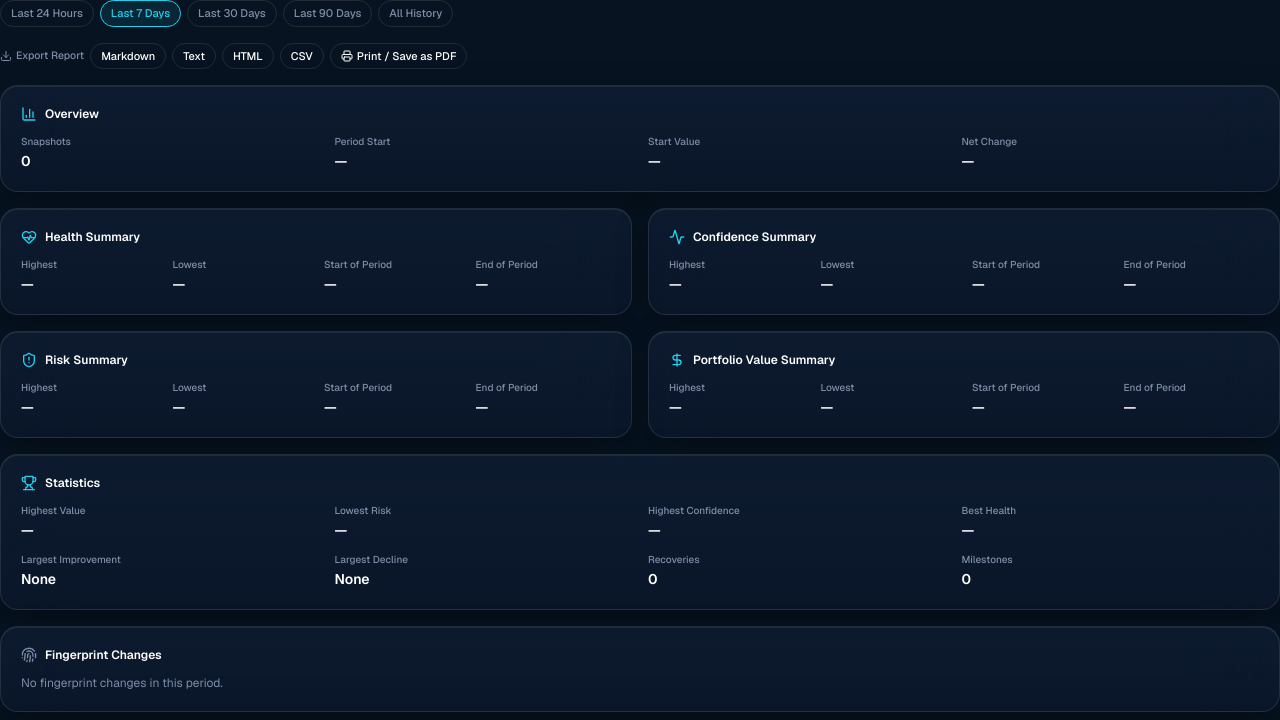
Test: WalletReportView › renders real Fingerprint Changes for the selected period
What coordinates should you click on to do the following:
click the button "All History"
I would click on:
 (416, 13)
Its box is [378,0,453,26].
(page scrolled)
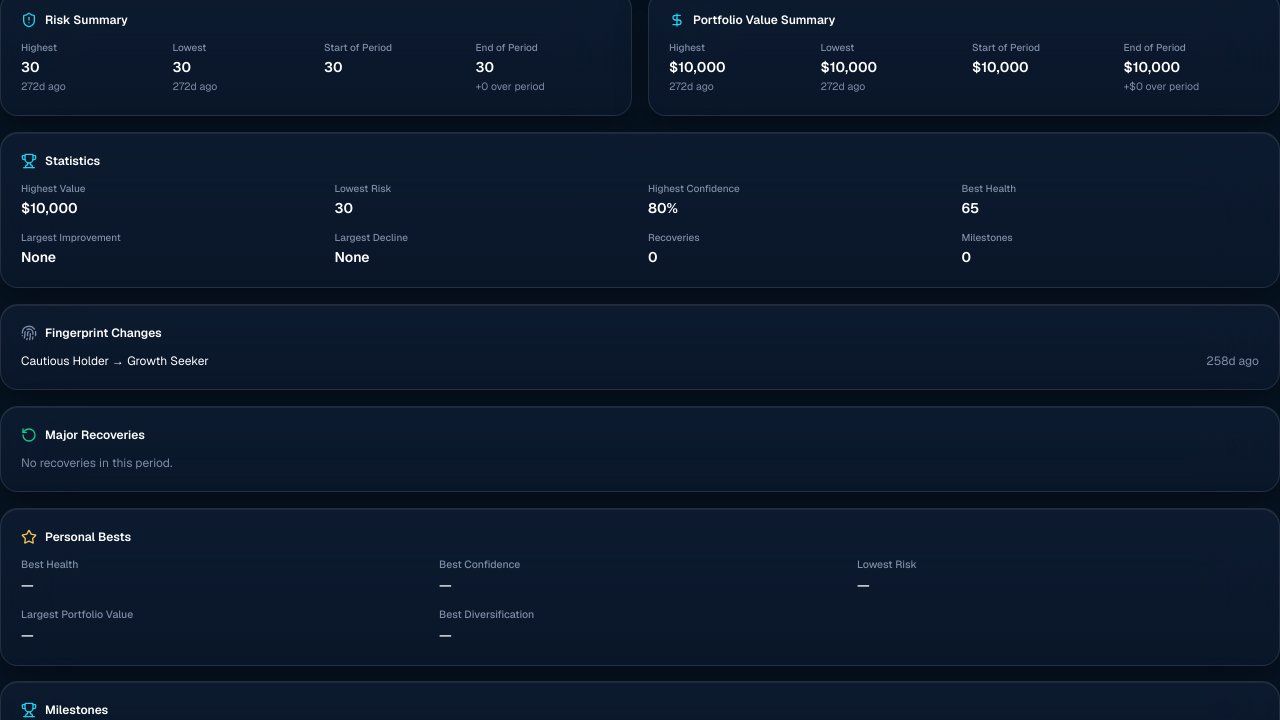
expect the text "Cautious Holder → Growth Seeker" is shown: met, box [21,352,209,368]
